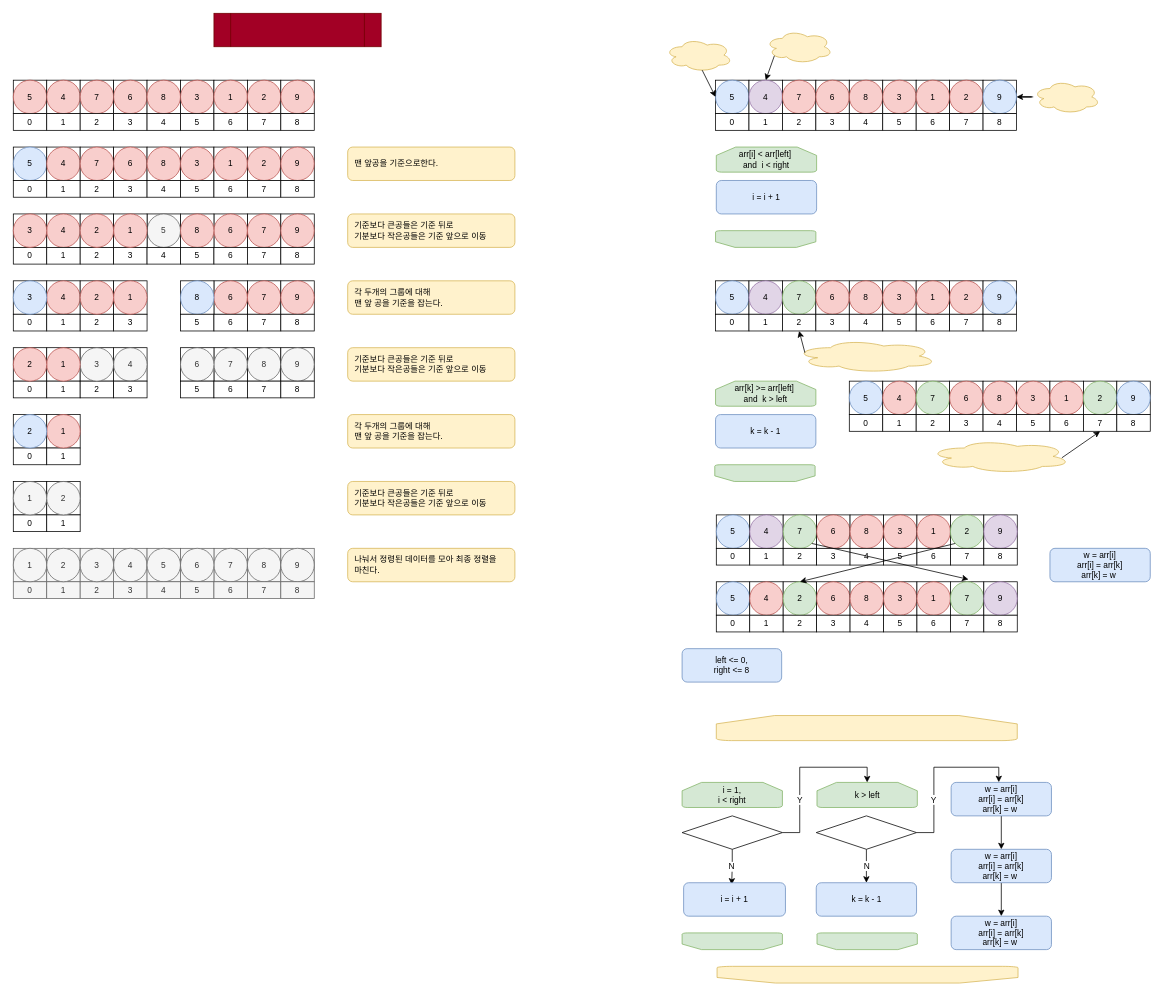
This 1164x996 diagram has some shape labels left out. The centre of each missing label's shape, as x and y in pixels:
arr[i] < arr[left]: the point at 731,832
arr[k] >= arr[left]: the point at 866,832
i < k: the point at 866,728
i = 2 지점에서 기준값보다 큰 데이터를 찾았다.: the point at 865,356
i left + 1: the point at 799,46
k = 7 지점에서 기준값보다 작은 데이터를 찾았다.: the point at 999,456
k right: the point at 1066,96
Quick Sort: the point at 297,30
기준값 left: the point at 698,55
